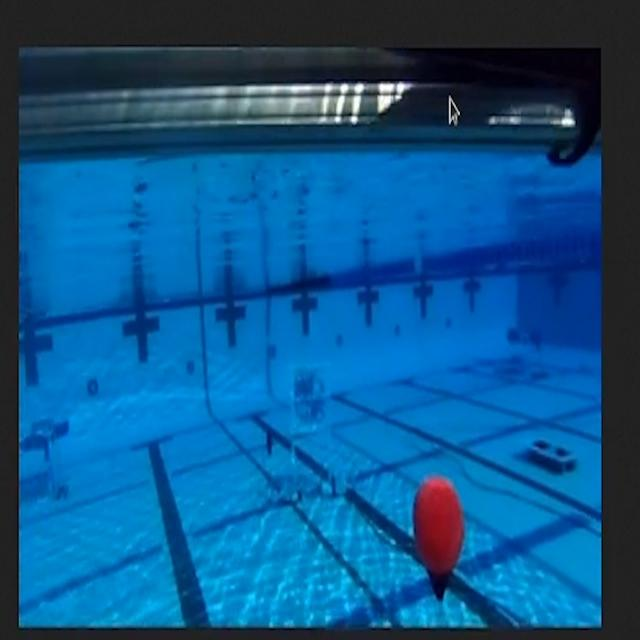Buoy: (413, 476, 466, 604)
